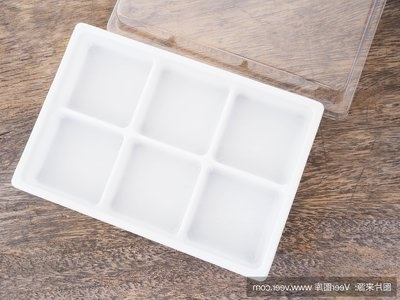5/可回收垃圾/泡沫: (9, 23, 324, 283)
